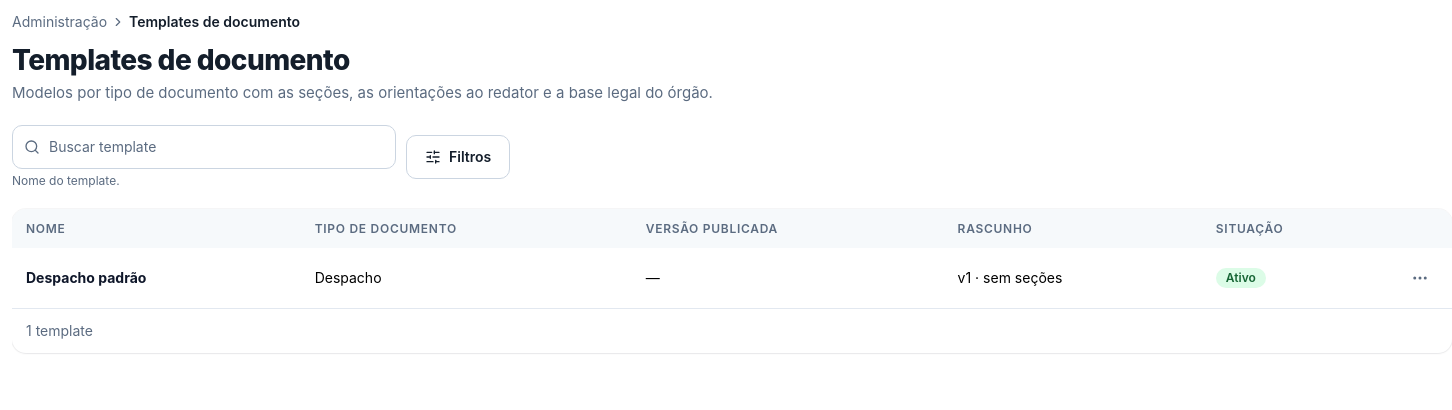
Test case: SCR-033 · lista de templates › [Permissão] só TEMPLATE_VIEW: sem "Novo template" nem "Editar dados"; link de leitura
The width and height of the screenshot is (1452, 410).
Click the button named "Ações de Despacho padrão".
click(1420, 278)  # box top-left (1402, 260), bottom-right (1438, 296)
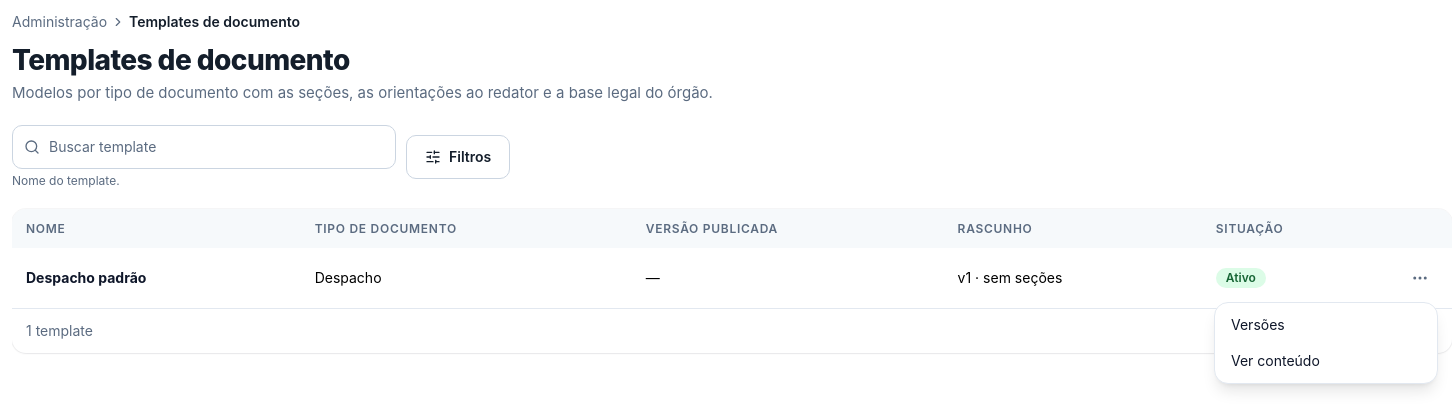
Now the menu item "Ver conteúdo" is shown, box top-left (1231, 352), bottom-right (1320, 369)
